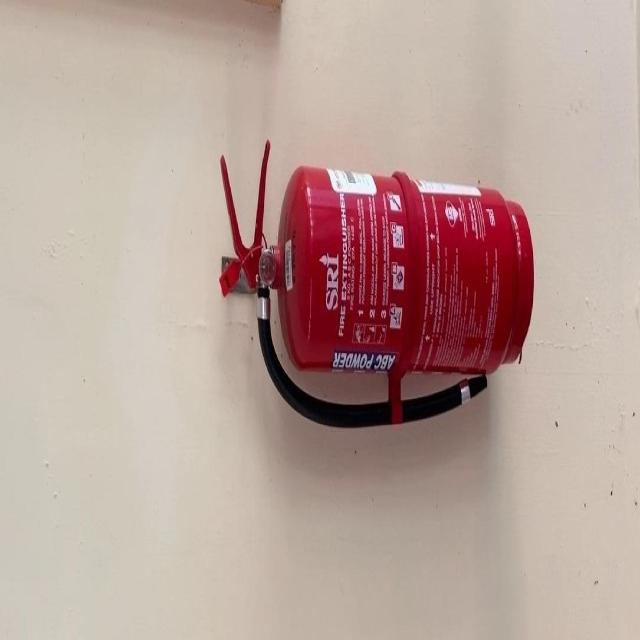fire_extinguisher: (212, 132, 537, 434)
